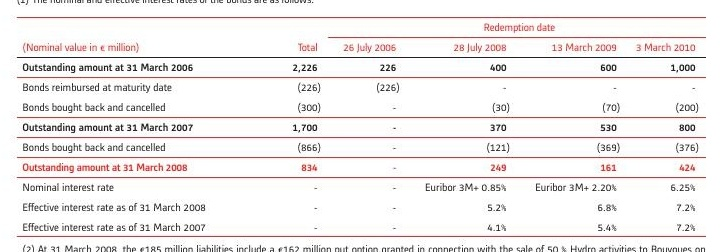table: (0, 0, 722, 252)
